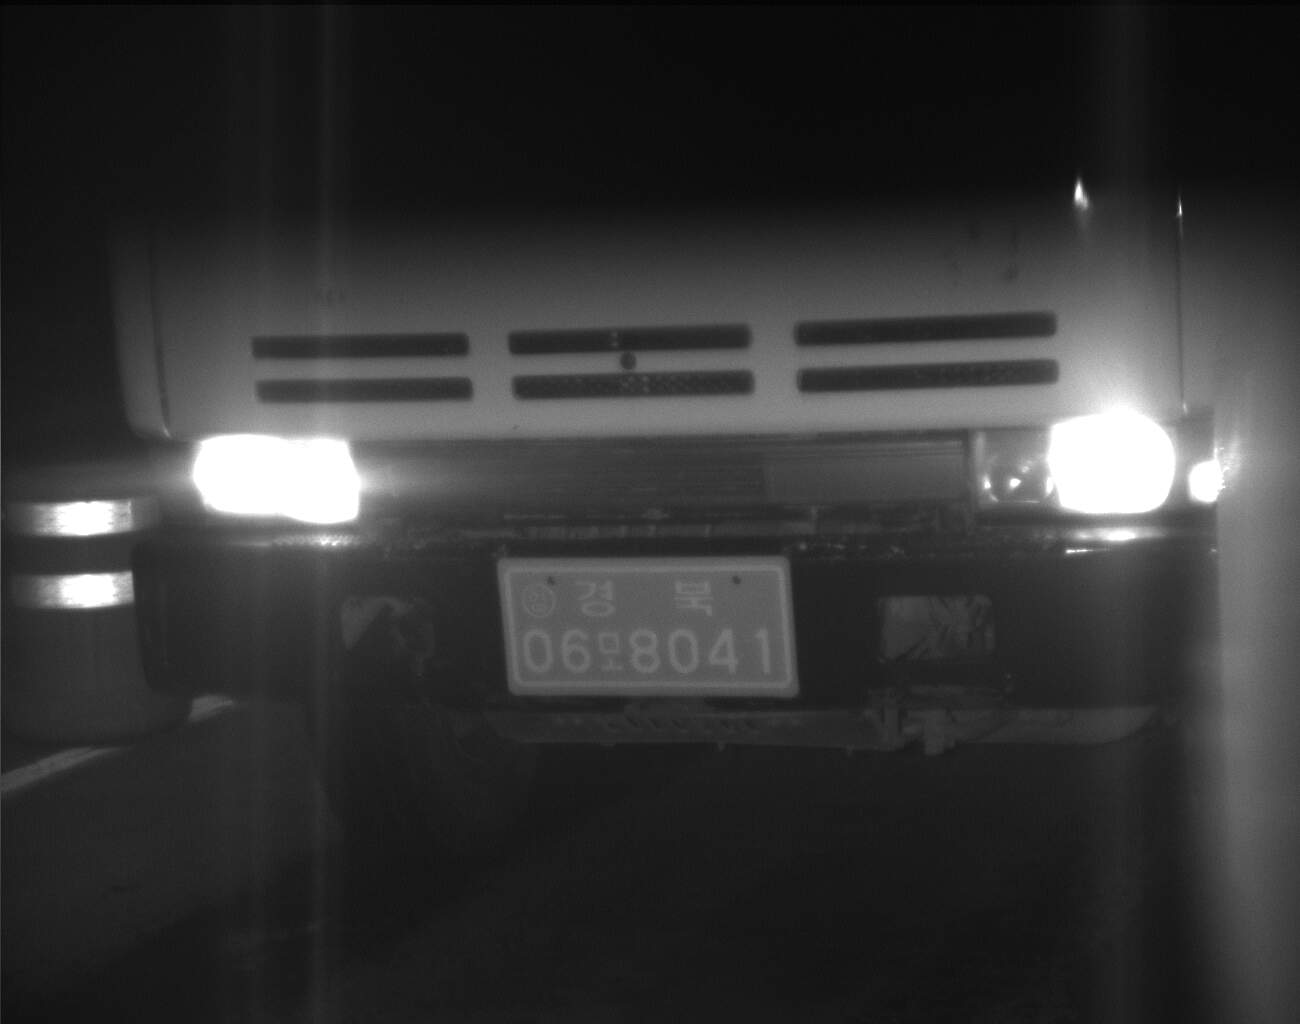car: (102, 179, 1216, 886)
plate: (497, 557, 795, 692)
